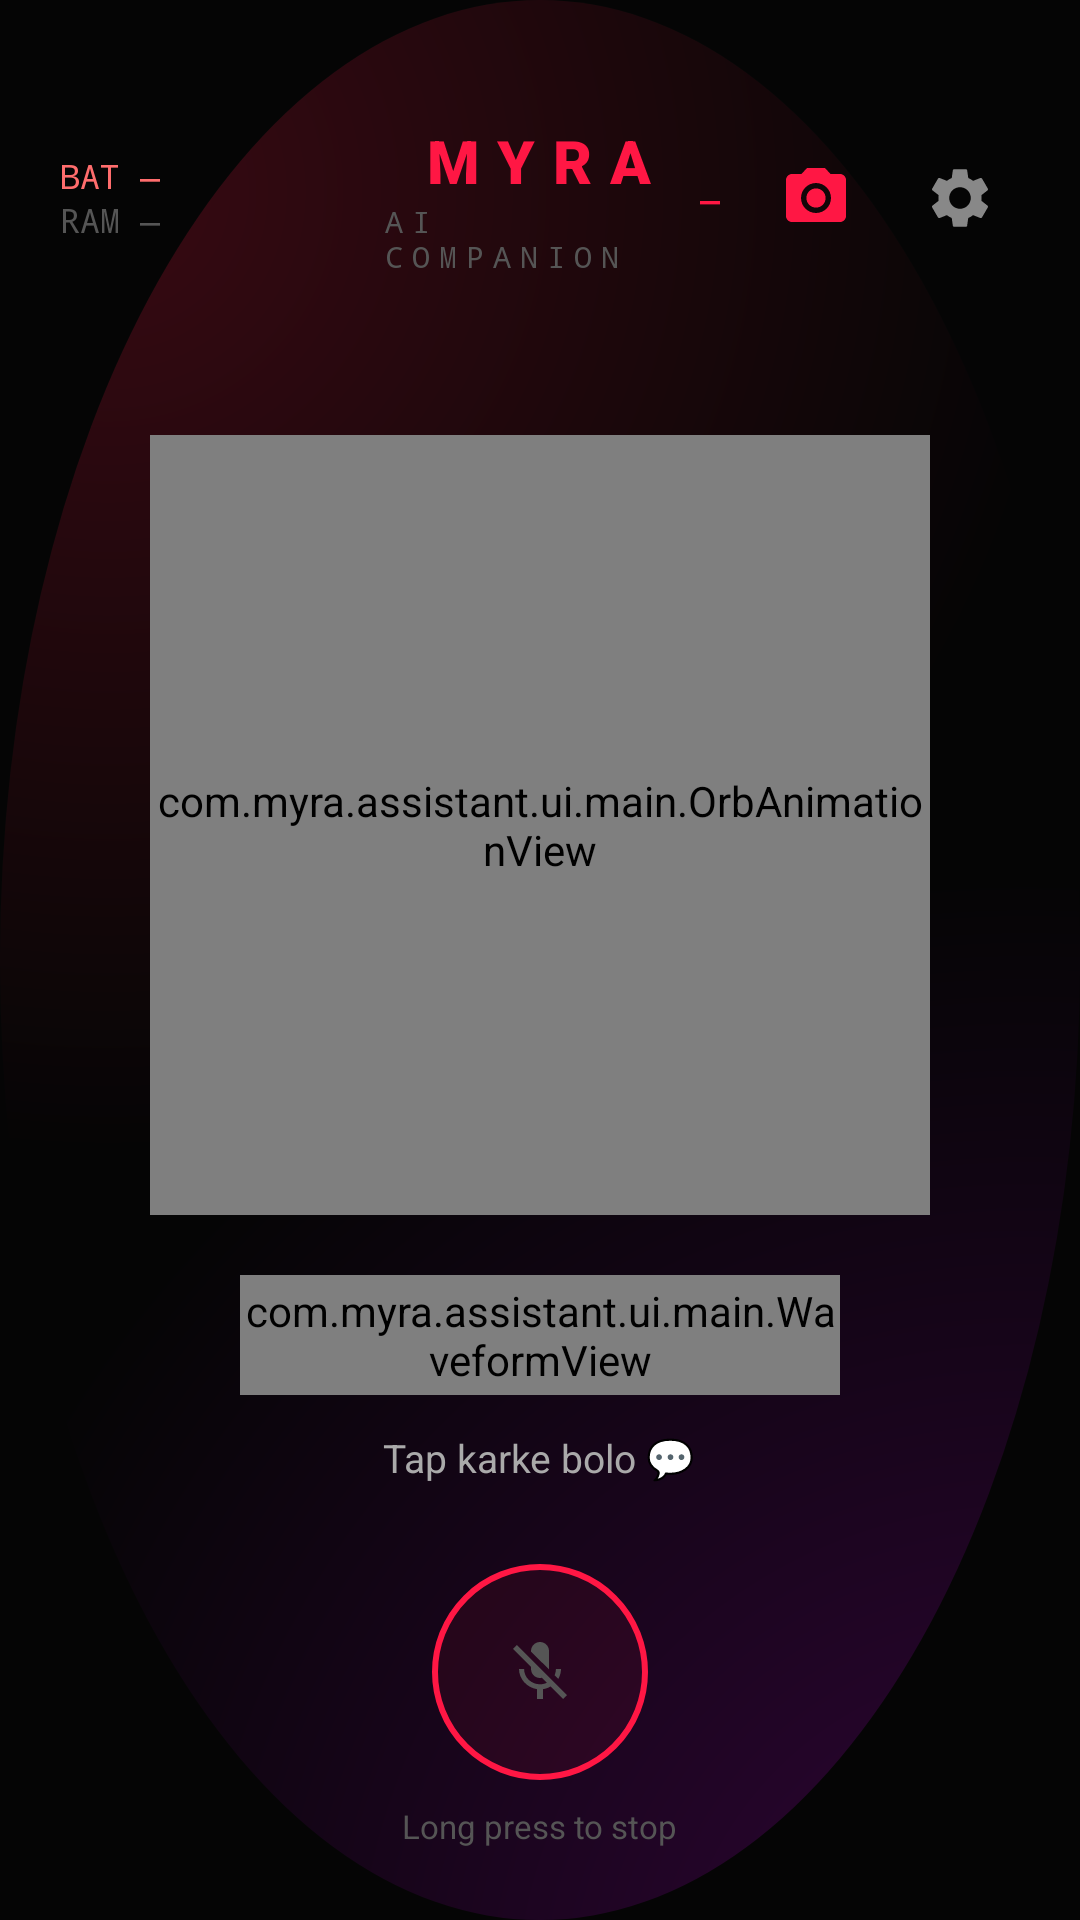

Named icons in this screenshot (1080px×1920px) and their bounding boxes, [x1,y1,x2,y2]:
Microphone: [432,1564,648,1780]
Settings: [932,169,988,227]
